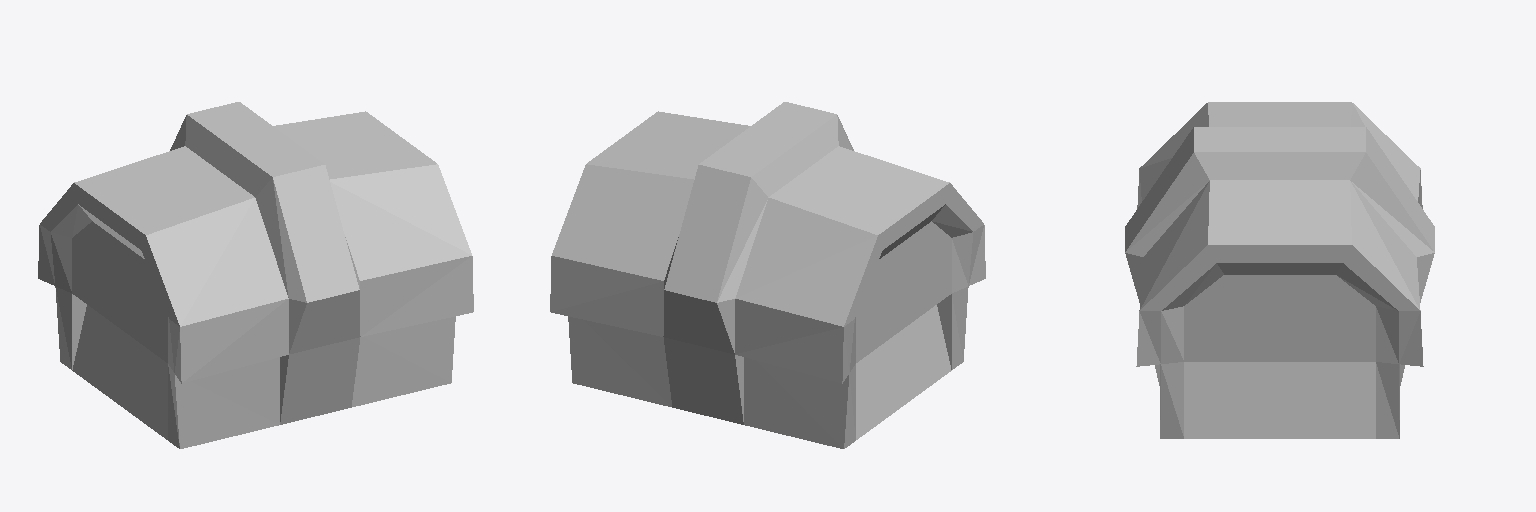
Rendered from trunk_medium_C.obj.
The picture shows the model from 3 angles: view 1: azimuth 30°, elevation 25°; view 2: azimuth 150°, elevation 25°; view 3: azimuth 270°, elevation 25°; orthographic projection.
Visible parts, largest first — view 1: trunk_medium_C; view 2: trunk_medium_C; view 3: trunk_medium_C.
Boxes of the visible parts, <box> form: trunk_medium_C: <box>38,102,473,448</box>; trunk_medium_C: <box>550,102,985,448</box>; trunk_medium_C: <box>1125,102,1434,438</box>.
Bounding box in the file's own units: 0.953 × 0.7265 × 0.8751.